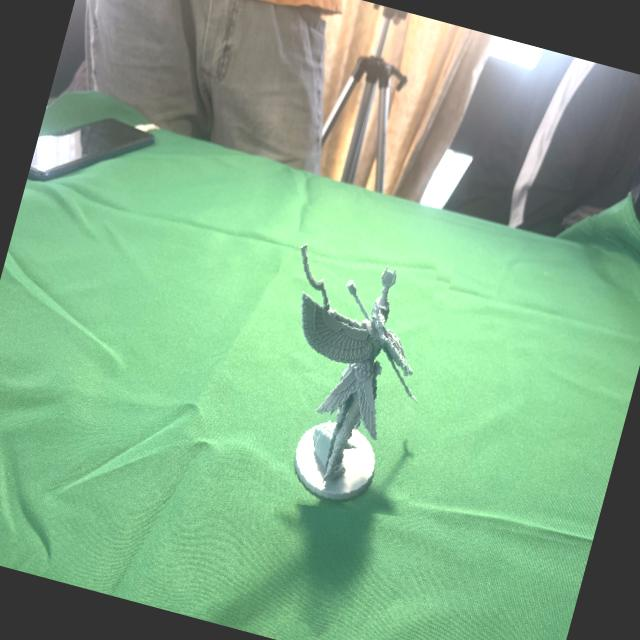isis: (236, 219, 465, 530)
